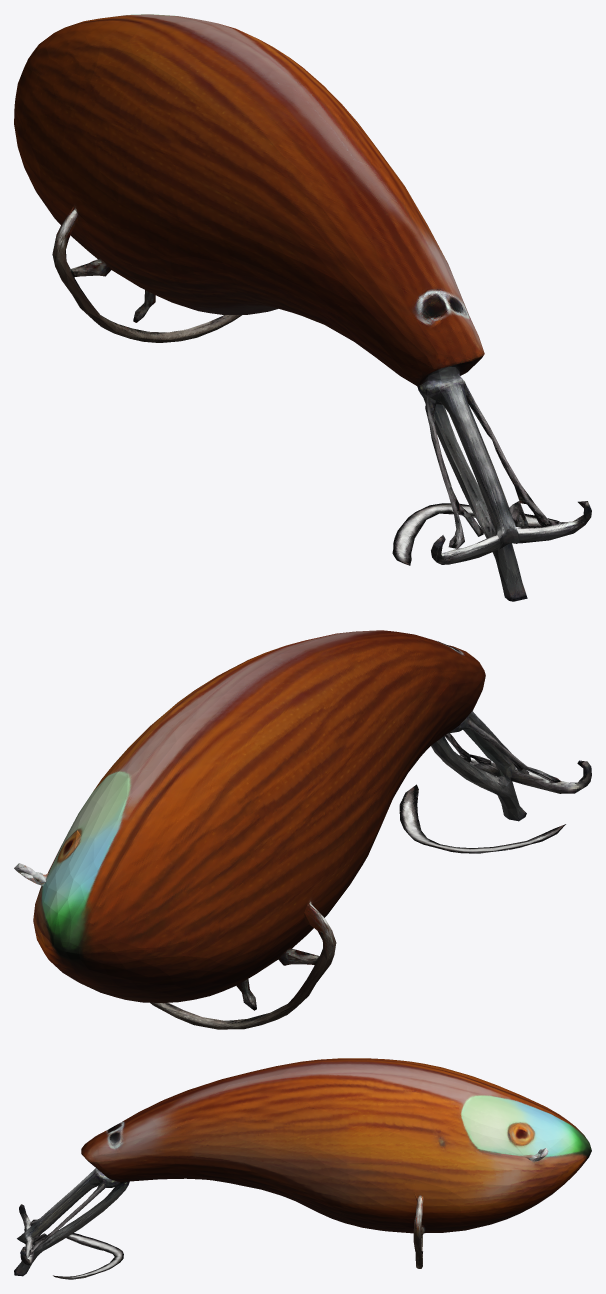
File: wooden-fishing-lure-3d.jpeg.glb
The picture shows the model from 3 angles, top to bottom: view 1: azimuth 30°, elevation 25°; view 2: azimuth 150°, elevation 25°; view 3: azimuth 270°, elevation 25°; orthographic projection. The views are drawn at different scales.
Parts seen in each view (by area): view 1: world; view 2: world; view 3: world.
Part boxes in pixels (<box>): world: <box>14,14,591,601</box>; world: <box>14,630,591,1029</box>; world: <box>14,1058,591,1279</box>.
Size of the model in its own units: 0.3347 by 0.4 by 0.9996.
1 material, 1 textured.
